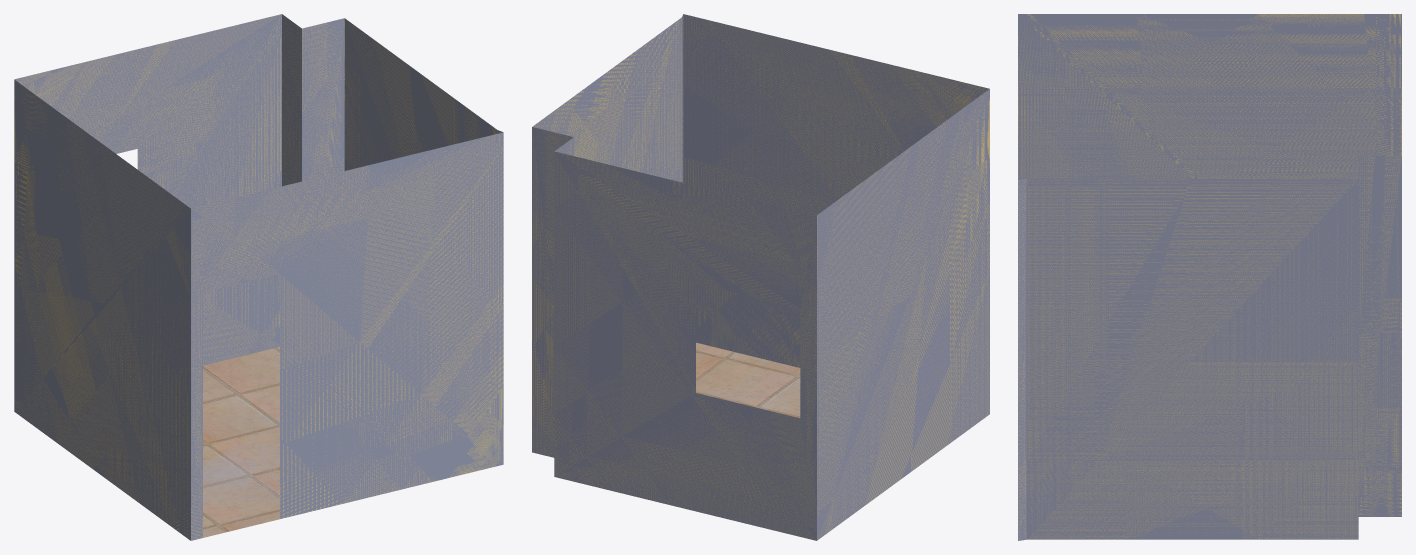
Rendered from DES015.obj.
3 views of the same model, side by side, from view 1: azimuth 30°, elevation 25°; view 2: azimuth 150°, elevation 25°; view 3: azimuth 270°, elevation 25° (orthographic). The views are drawn at different scales.
Parts seen in each view (by area): view 1: Mesh1 DES015 Model; view 2: Mesh1 DES015 Model; view 3: Mesh1 DES015 Model.
Part boxes in pixels (bbox=[...]): Mesh1 DES015 Model: bbox=[14, 14, 503, 540]; Mesh1 DES015 Model: bbox=[532, 14, 989, 540]; Mesh1 DES015 Model: bbox=[1018, 14, 1401, 540].
Size of the model in its own units: 2.96 by 3 by 2.89.
3 materials, 1 textured.
